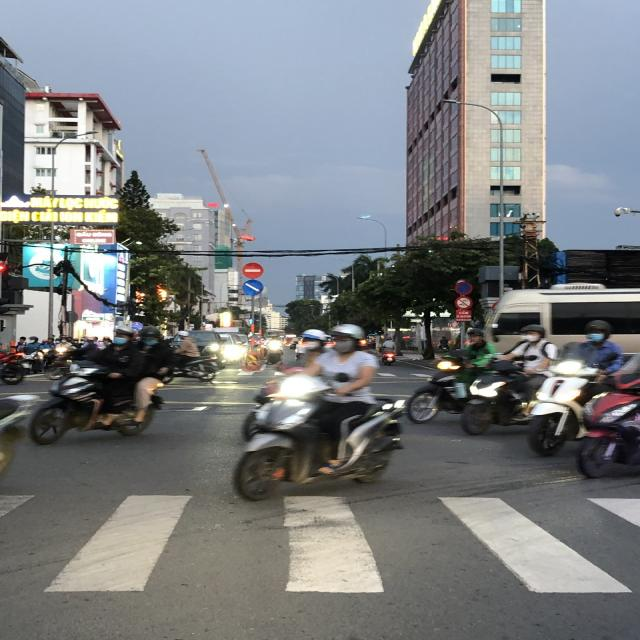Bien bao cam di nguoc chieu: (242, 260, 264, 280)
Bien bao huong phai di vong chuong ngai vat: (242, 279, 264, 297)
